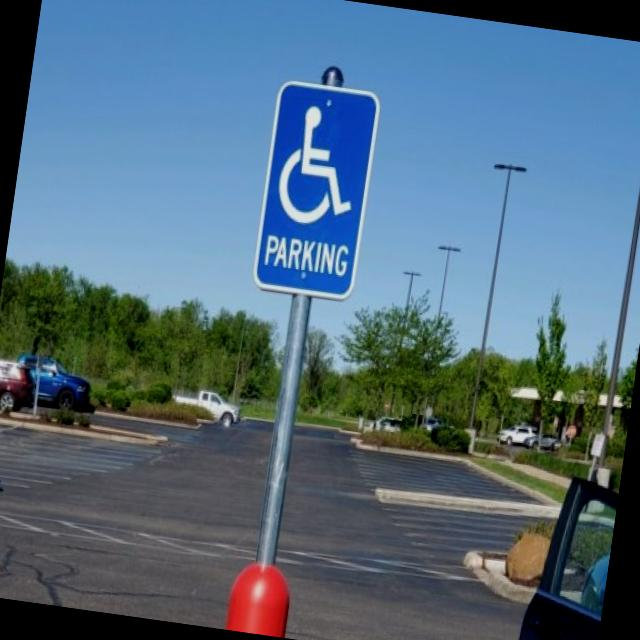symbol_of_access: (267, 95, 372, 239)
